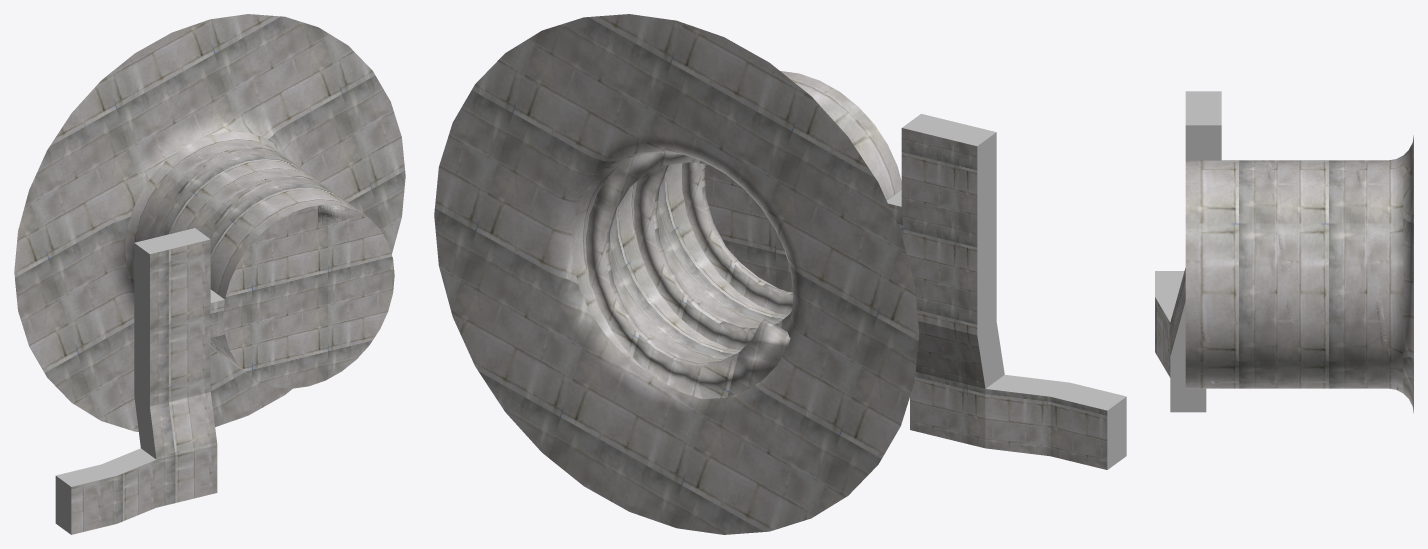
File: ground.dae
3 views of the same model, side by side, from view 1: azimuth 30°, elevation 25°; view 2: azimuth 150°, elevation 25°; view 3: azimuth 270°, elevation 25° (orthographic). The views are drawn at different scales.
Visible parts, largest first — view 1: ground, stairs; view 2: ground, stairs; view 3: ground, stairs.
Part boxes in pixels (x1,y1,x2,y2): ground: (14,14,405,534); stairs: (125,147,365,298); ground: (434,14,1126,534); stairs: (586,71,793,398); ground: (1155,91,1413,413); stairs: (1185,160,1398,389).
Bounding box in the file's own units: 29.2 × 12.71 × 25.59.
